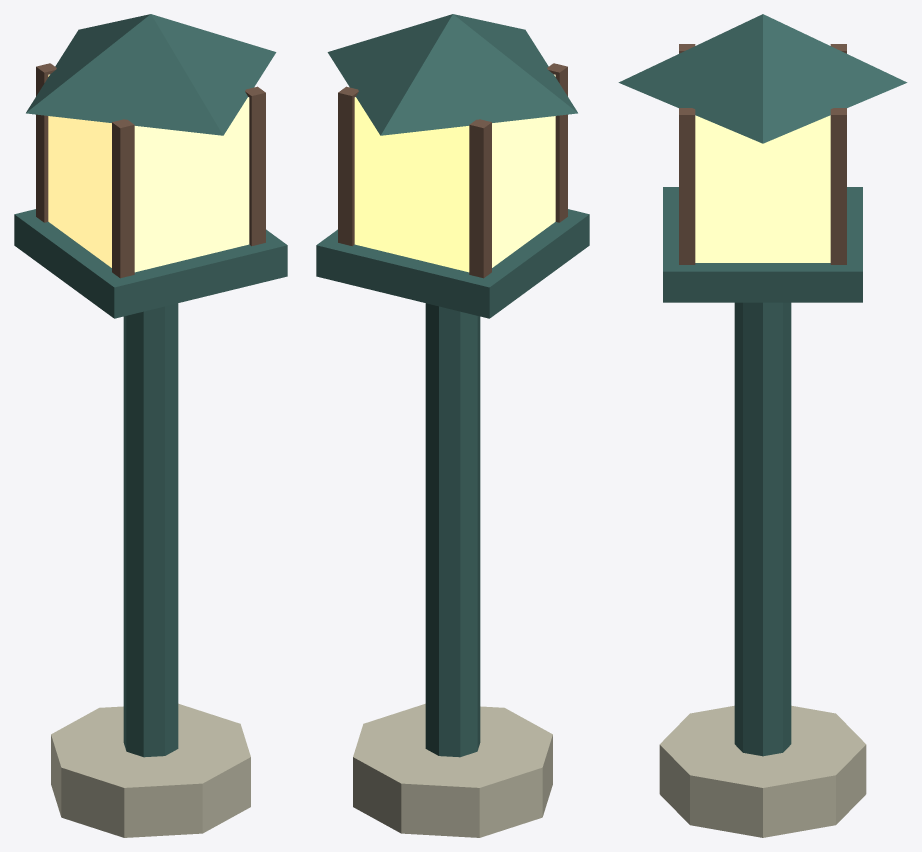
File: lamp.glb
3 views of the same model, side by side, from view 1: azimuth 30°, elevation 25°; view 2: azimuth 150°, elevation 25°; view 3: azimuth 270°, elevation 25° (orthographic).
Visible parts, largest first — view 1: Lamp post, Lantern body, Base, Lantern hat, Lantern foot, Lantern frame, Lantern frame.002, Lantern frame.001; view 2: Lamp post, Lantern body, Base, Lantern hat, Lantern foot, Lantern frame.001, Lantern frame.003, Lantern frame; view 3: Lamp post, Base, Lantern hat, Lantern body, Lantern foot, Lantern frame.002, Lantern frame.003.
Boxes of the visible parts, x1=… form: Lamp post: x1=123, y1=303, x2=178, y2=757; Lantern body: x1=48, y1=74, x2=249, y2=272; Base: x1=51, y1=703, x2=250, y2=837; Lantern hat: x1=26, y1=14, x2=276, y2=135; Lantern foot: x1=14, y1=209, x2=287, y2=318; Lantern frame: x1=112, y1=119, x2=134, y2=278; Lantern frame.002: x1=245, y1=86, x2=265, y2=246; Lantern frame.001: x1=36, y1=63, x2=56, y2=222; Lamp post: x1=425, y1=303, x2=480, y2=757; Lantern body: x1=354, y1=74, x2=555, y2=272; Base: x1=353, y1=703, x2=552, y2=837; Lantern hat: x1=327, y1=14, x2=577, y2=135; Lantern foot: x1=316, y1=209, x2=589, y2=318; Lantern frame.001: x1=469, y1=119, x2=491, y2=278; Lantern frame.003: x1=338, y1=86, x2=358, y2=246; Lantern frame: x1=547, y1=63, x2=567, y2=222; Lamp post: x1=734, y1=302, x2=791, y2=756; Base: x1=659, y1=705, x2=866, y2=837; Lantern hat: x1=618, y1=14, x2=907, y2=143; Lantern body: x1=695, y1=115, x2=830, y2=262; Lantern foot: x1=663, y1=187, x2=862, y2=302; Lantern frame.002: x1=679, y1=108, x2=695, y2=264; Lantern frame.003: x1=830, y1=108, x2=846, y2=264.
Size of the model in its own units: 0.42 by 1.25 by 0.42.
